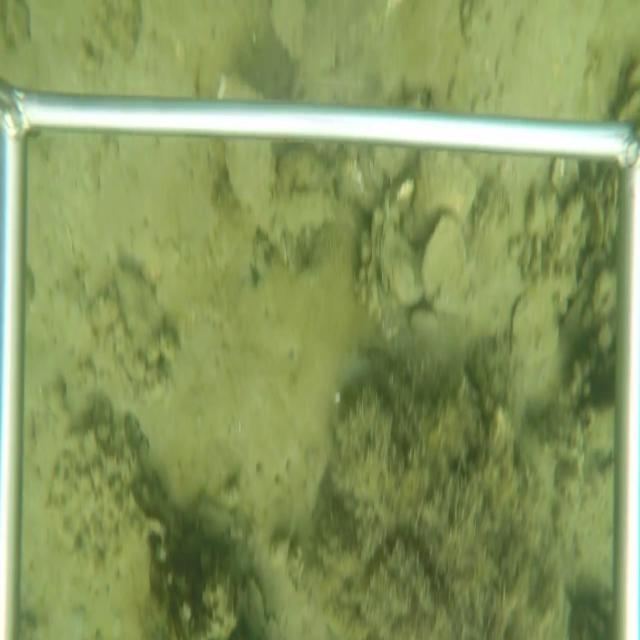Oyster-Closed: (502, 277, 562, 444)
Oyster-Indeterminate: (404, 147, 483, 240), (113, 261, 167, 367), (419, 208, 470, 319), (223, 139, 275, 242)
